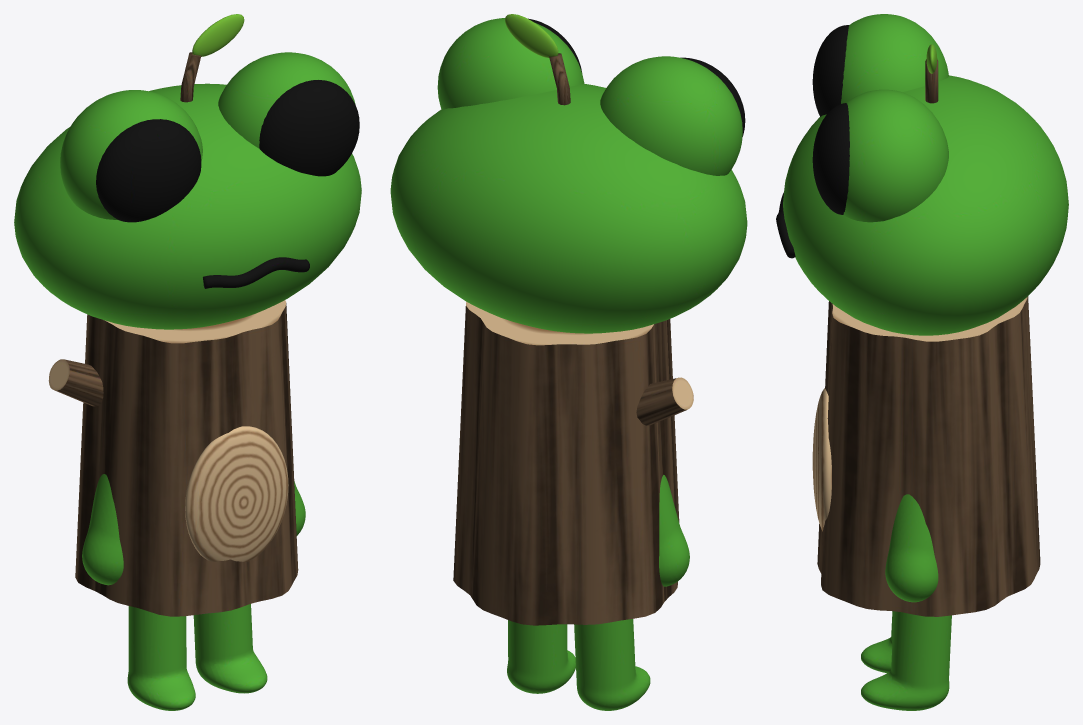
The model's file is flog.glb.
3 renders of one model, left to right at view 1: azimuth 30°, elevation 25°; view 2: azimuth 150°, elevation 25°; view 3: azimuth 270°, elevation 25°, orthographic. The views are drawn at different scales.
Visible parts, largest first — view 1: flog; view 2: flog; view 3: flog.
Part boxes in pixels (<box>): flog: <box>14,14,361,710</box>; flog: <box>390,14,747,710</box>; flog: <box>776,14,1068,710</box>.
Size of the model in its own units: 0.6049 by 1.2 by 0.4795.
Materials: 6 (6 with a texture image).
